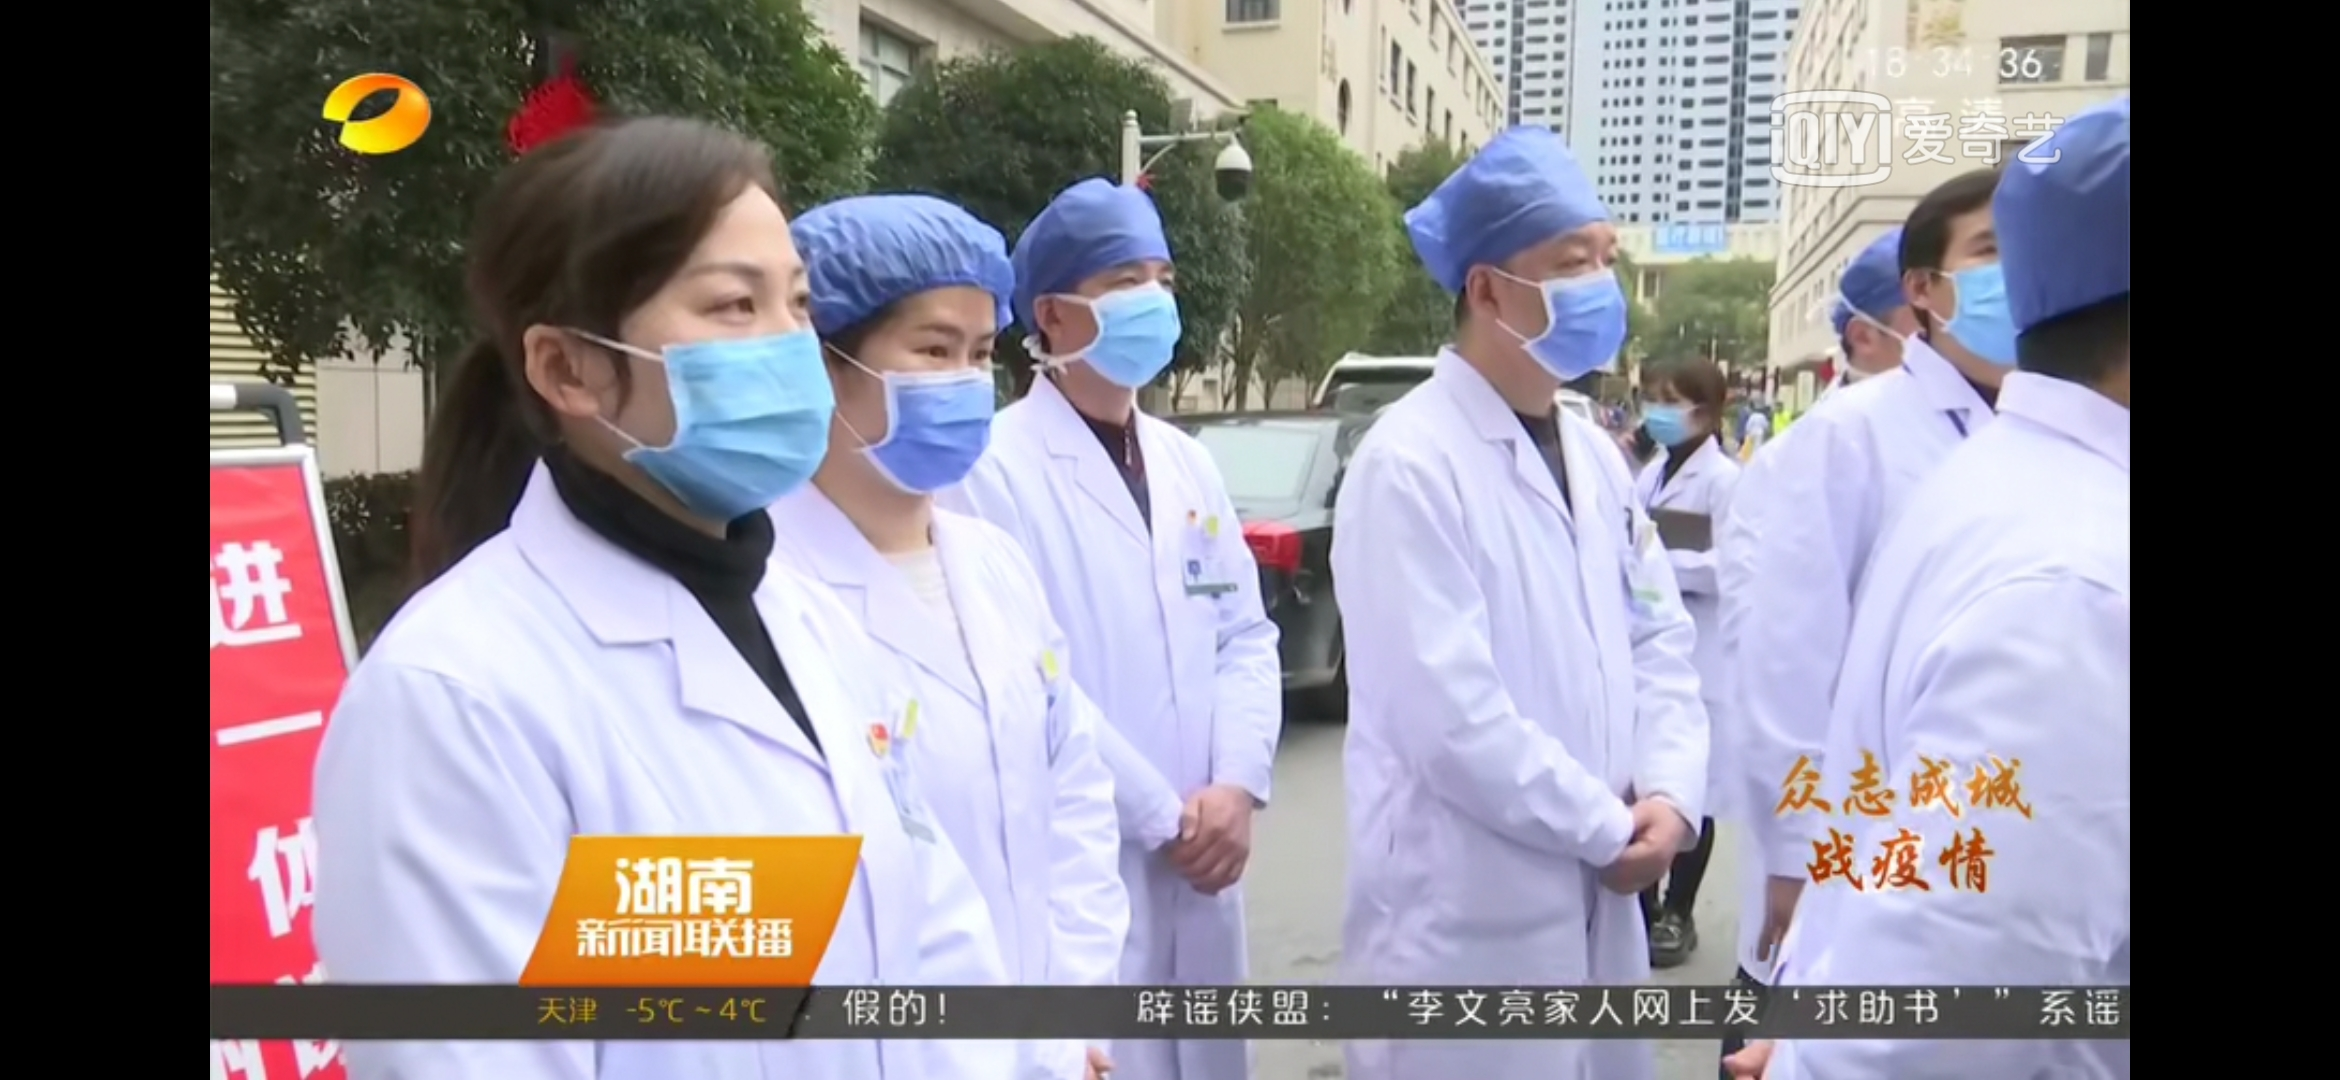correctlyWear: (518, 242, 834, 536), (813, 313, 995, 500), (1467, 233, 1631, 389), (1033, 252, 1186, 397), (1898, 228, 2016, 365), (1642, 373, 1719, 446)
